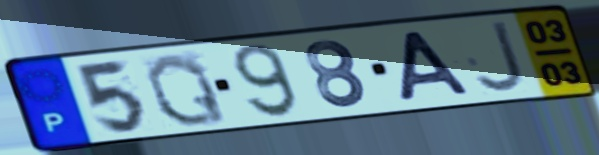5: (71, 55, 150, 135)
8: (303, 38, 367, 109)
9: (227, 42, 303, 120)
A: (397, 28, 476, 105)
J: (472, 18, 530, 96)
Q: (142, 50, 232, 128)
